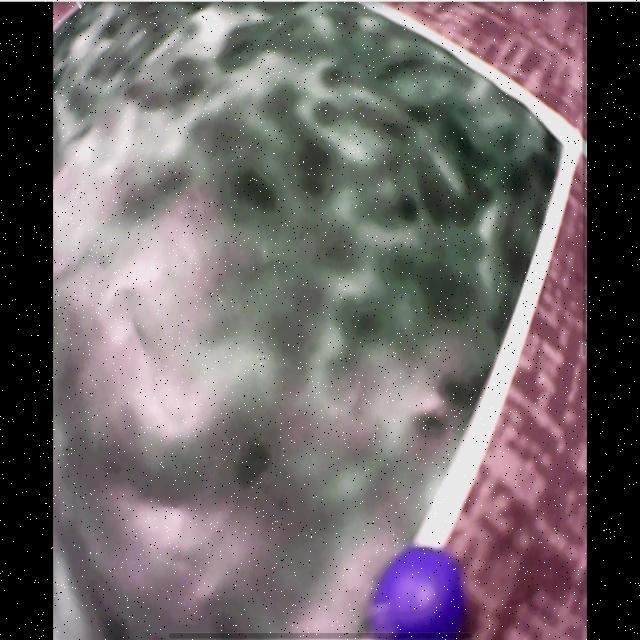ball: (383, 551, 464, 638)
